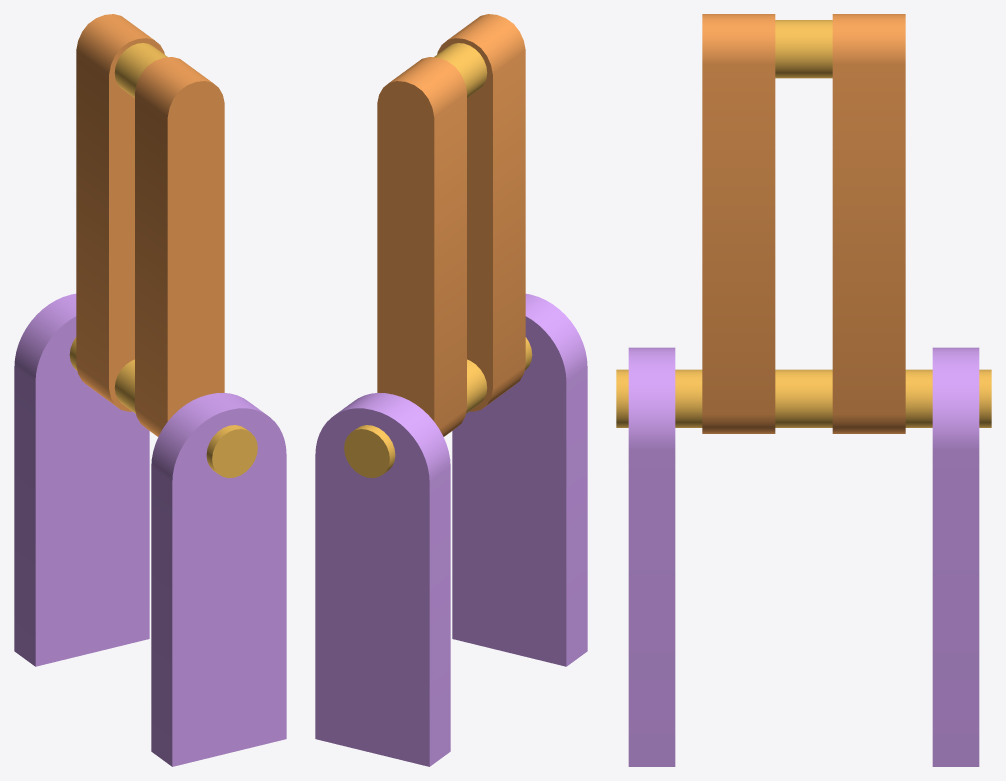
The model's file is Saw Stand D.fbx.
3 renders of one model, left to right at view 1: azimuth 30°, elevation 25°; view 2: azimuth 150°, elevation 25°; view 3: azimuth 270°, elevation 25°, orthographic. The views are drawn at different scales.
Parts seen in each view (by area): view 1: Saw Stand D.002, Saw Stand D, Saw Stand D.001; view 2: Saw Stand D.002, Saw Stand D.001, Saw Stand D; view 3: Saw Stand D.002, Saw Stand D, Saw Stand D.001.
Boxes of the visible parts, x1=… form: Saw Stand D.002: x1=69, y1=14, x2=257, y2=478; Saw Stand D: x1=151, y1=393, x2=286, y2=766; Saw Stand D.001: x1=14, y1=293, x2=149, y2=666; Saw Stand D.002: x1=344, y1=14, x2=532, y2=478; Saw Stand D.001: x1=315, y1=393, x2=450, y2=766; Saw Stand D: x1=452, y1=293, x2=587, y2=666; Saw Stand D.002: x1=616, y1=14, x2=991, y2=433; Saw Stand D: x1=628, y1=347, x2=675, y2=766; Saw Stand D.001: x1=932, y1=347, x2=979, y2=766.
Bounding box in the file's own units: 47.85 × 259 × 123.
